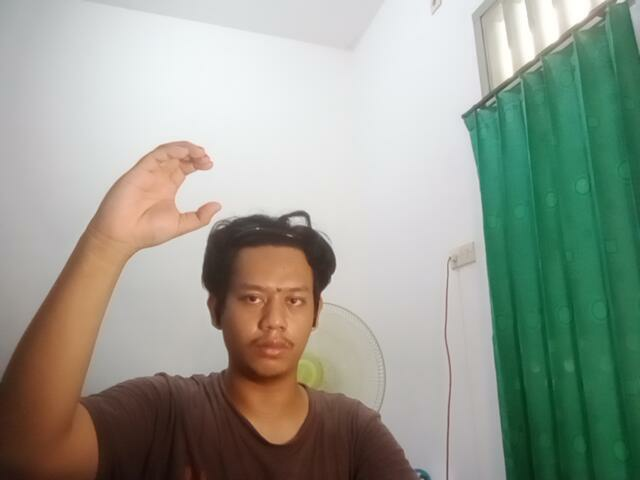C: (91, 135, 226, 250)
